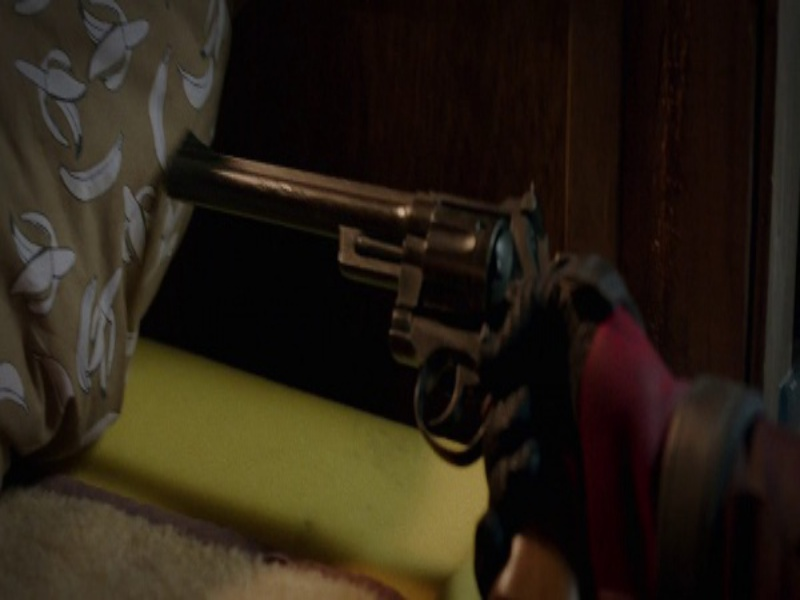weapon: (174, 130, 606, 599)
